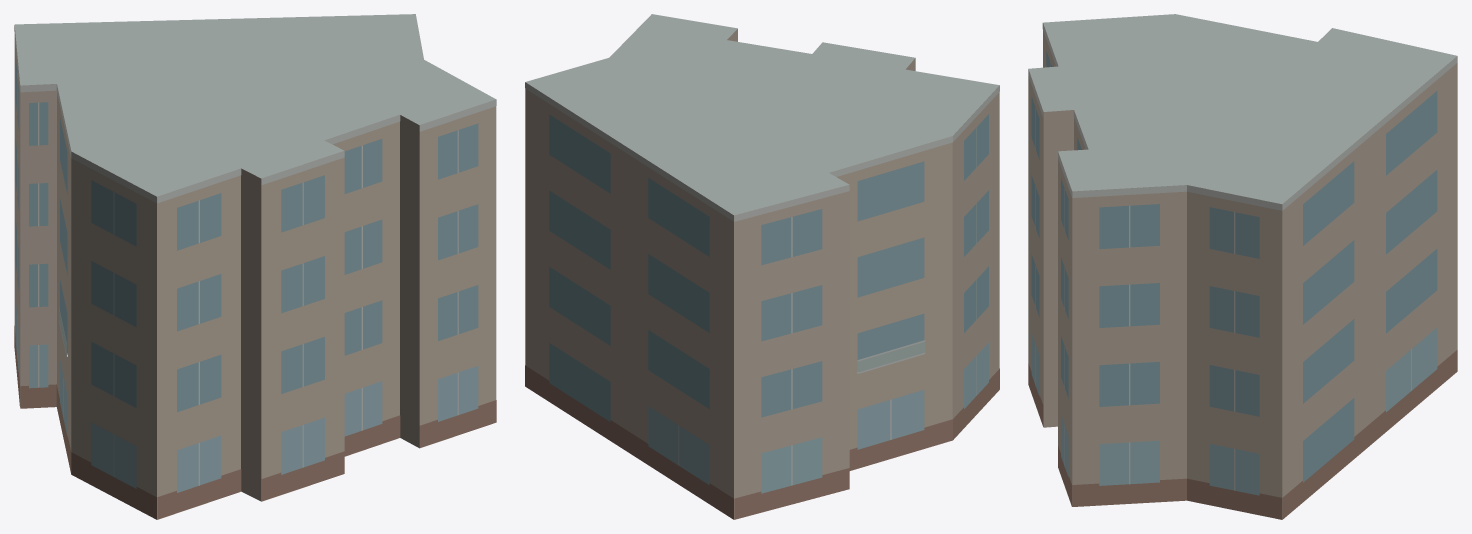
The model's file is survey-upis-32826879.glb.
3 renders of one model, left to right at view 1: azimuth 30°, elevation 25°; view 2: azimuth 150°, elevation 25°; view 3: azimuth 270°, elevation 25°, orthographic. The views are drawn at different scales.
Visible parts, largest first — view 1: survey-upis-32826879.tmp; view 2: survey-upis-32826879.tmp; view 3: survey-upis-32826879.tmp.
Part boxes in pixels (box(x1,y1,x2,y2)): survey-upis-32826879.tmp: box(14, 14, 496, 519); survey-upis-32826879.tmp: box(525, 14, 999, 519); survey-upis-32826879.tmp: box(1028, 14, 1457, 519).
Size of the model in its own units: 15.01 by 11.6 by 14.31.
